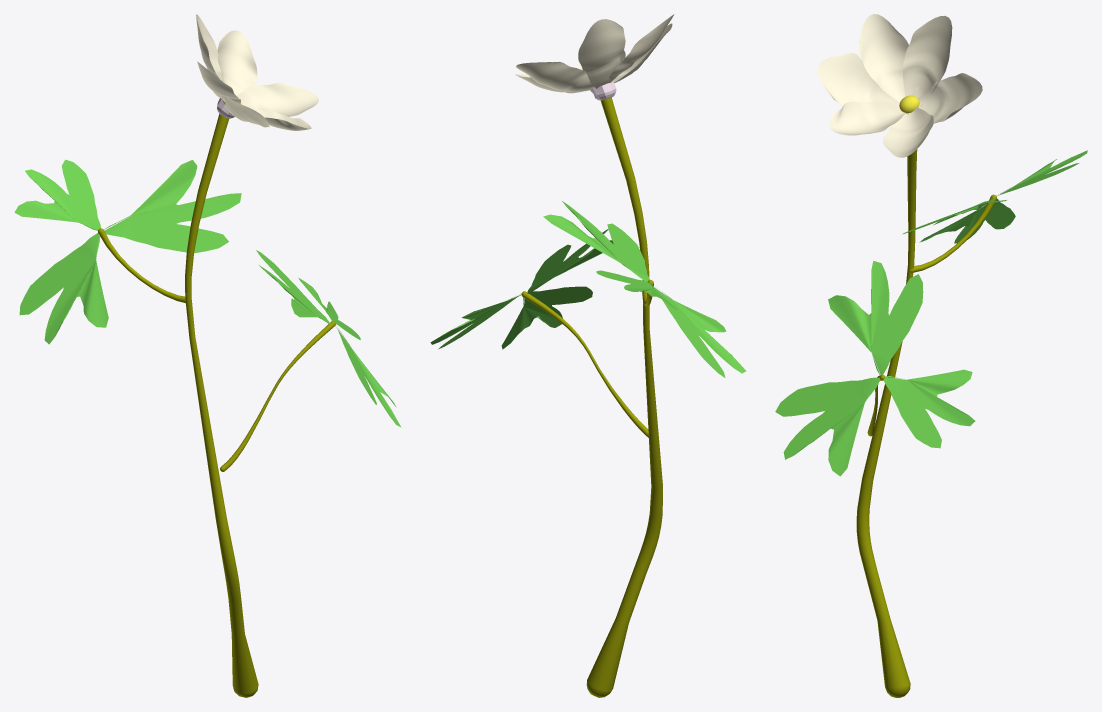
The model's file is wood-anemone.glb.
The picture shows the model from 3 angles, left to right: view 1: azimuth 30°, elevation 25°; view 2: azimuth 150°, elevation 25°; view 3: azimuth 270°, elevation 25°; orthographic projection. The views are drawn at different scales.
Parts seen in each view (by area): view 1: Object_4, Object_6, Object_5; view 2: Object_4, Object_6, Object_5; view 3: Object_4, Object_5, Object_6.
Part boxes in pixels (box(x1,y1,x2,y2)): Object_4: box(14, 159, 401, 427); Object_6: box(98, 113, 335, 697); Object_5: box(196, 14, 318, 130); Object_4: box(430, 201, 746, 377); Object_6: box(521, 98, 662, 697); Object_5: box(515, 14, 674, 93); Object_4: box(775, 150, 1087, 476); Object_5: box(817, 14, 982, 157); Object_6: box(856, 149, 996, 697).
Bounding box in the file's own units: 0.0957 × 0.2001 × 0.0848.
